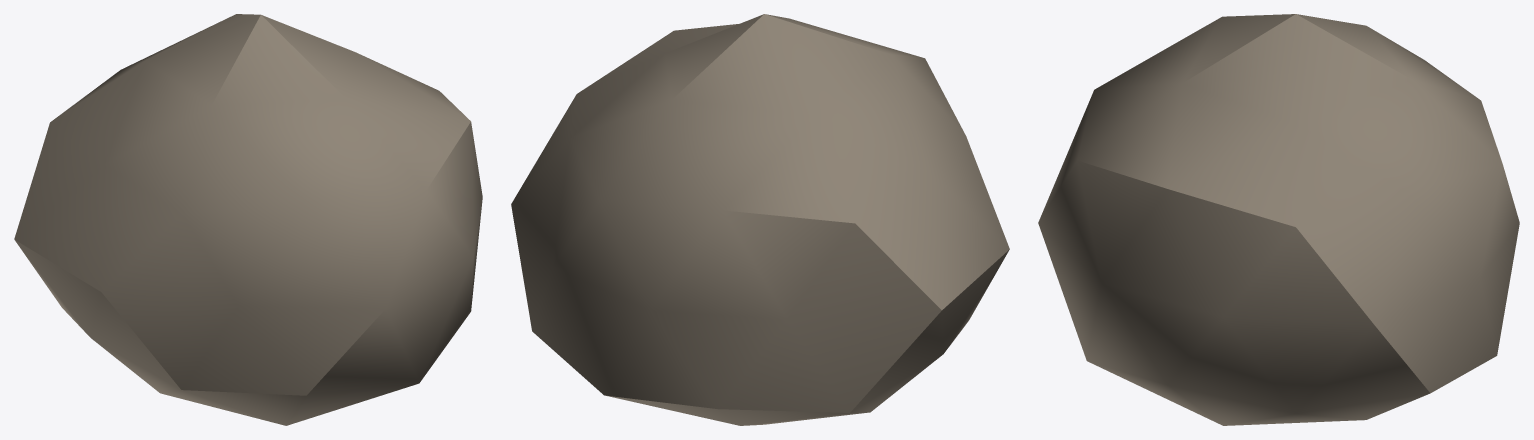
File: nature_boulder.3.glb
The picture shows the model from 3 angles, left to right: view 1: azimuth 30°, elevation 25°; view 2: azimuth 150°, elevation 25°; view 3: azimuth 270°, elevation 25°; orthographic projection. The views are drawn at different scales.
Parts seen in each view (by area): view 1: nature_boulder; view 2: nature_boulder; view 3: nature_boulder.
Part boxes in pixels (x1,y1,x2,y2): nature_boulder: [14, 14, 482, 425]; nature_boulder: [511, 14, 1009, 425]; nature_boulder: [1038, 14, 1519, 425].
Bounding box in the file's own units: 0.8804 × 0.8 × 0.8671.
